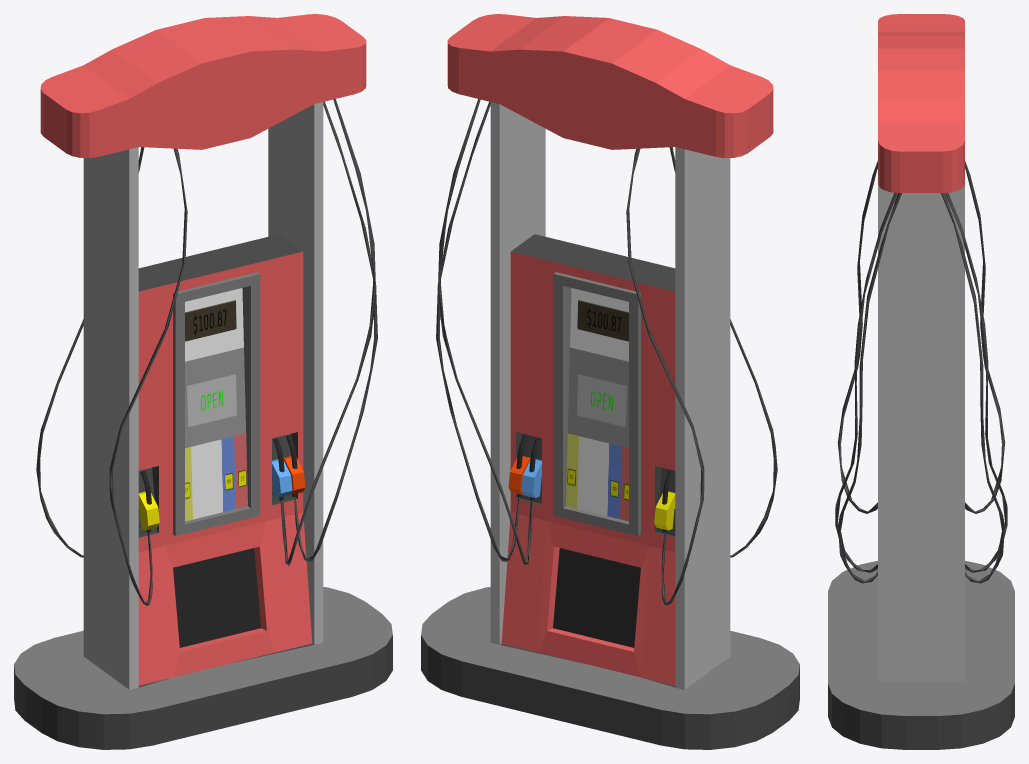
Rendered from GasPump.fbx.
3 renders of one model, left to right at view 1: azimuth 30°, elevation 25°; view 2: azimuth 150°, elevation 25°; view 3: azimuth 270°, elevation 25°, orthographic. The views are drawn at different scales.
Parts seen in each view (by area): view 1: GasPump; view 2: GasPump; view 3: GasPump.
Boxes of the visible parts, x1,y1,x2,y2 form: GasPump: [14, 14, 392, 749]; GasPump: [421, 14, 799, 749]; GasPump: [828, 14, 1014, 749].
Size of the model in its own units: 132 by 238 by 66.
